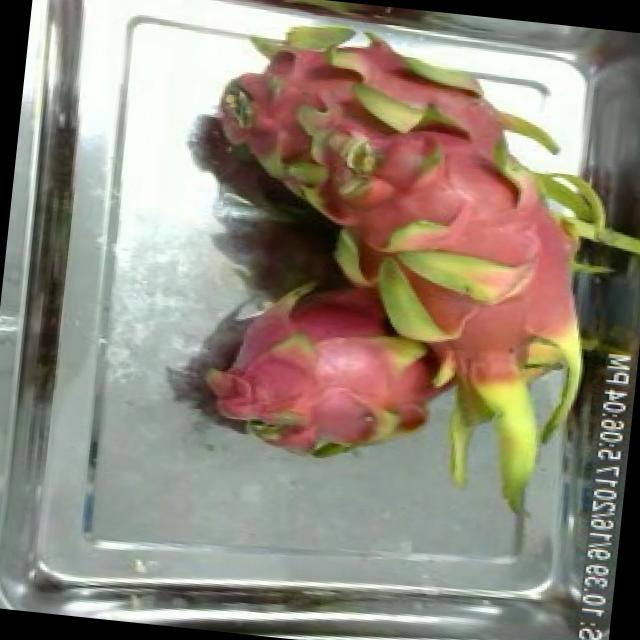Fruit: (205, 187, 362, 316)
